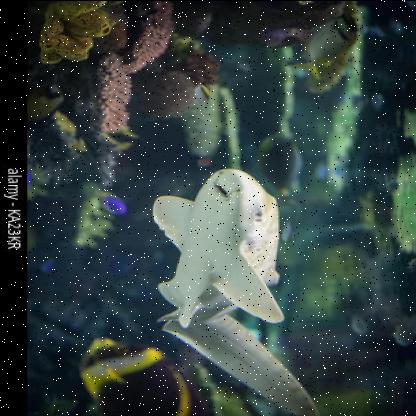zebra_shark: (146, 148, 341, 412)
